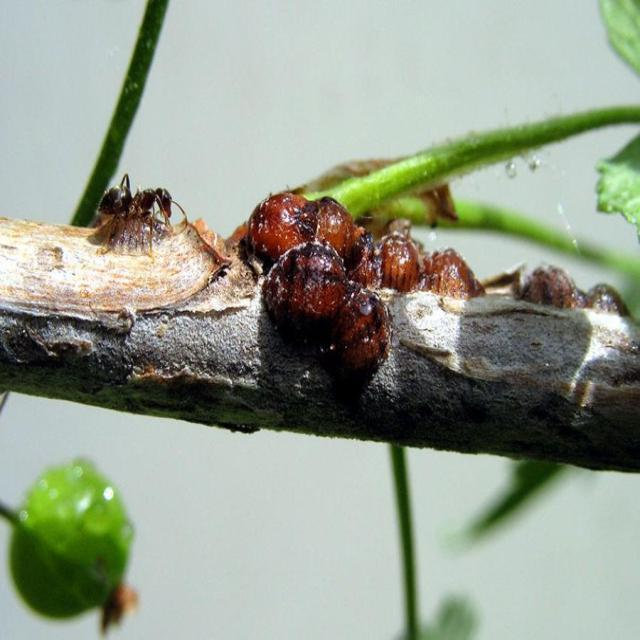BlackScale: (244, 192, 484, 386), (512, 266, 630, 318)
